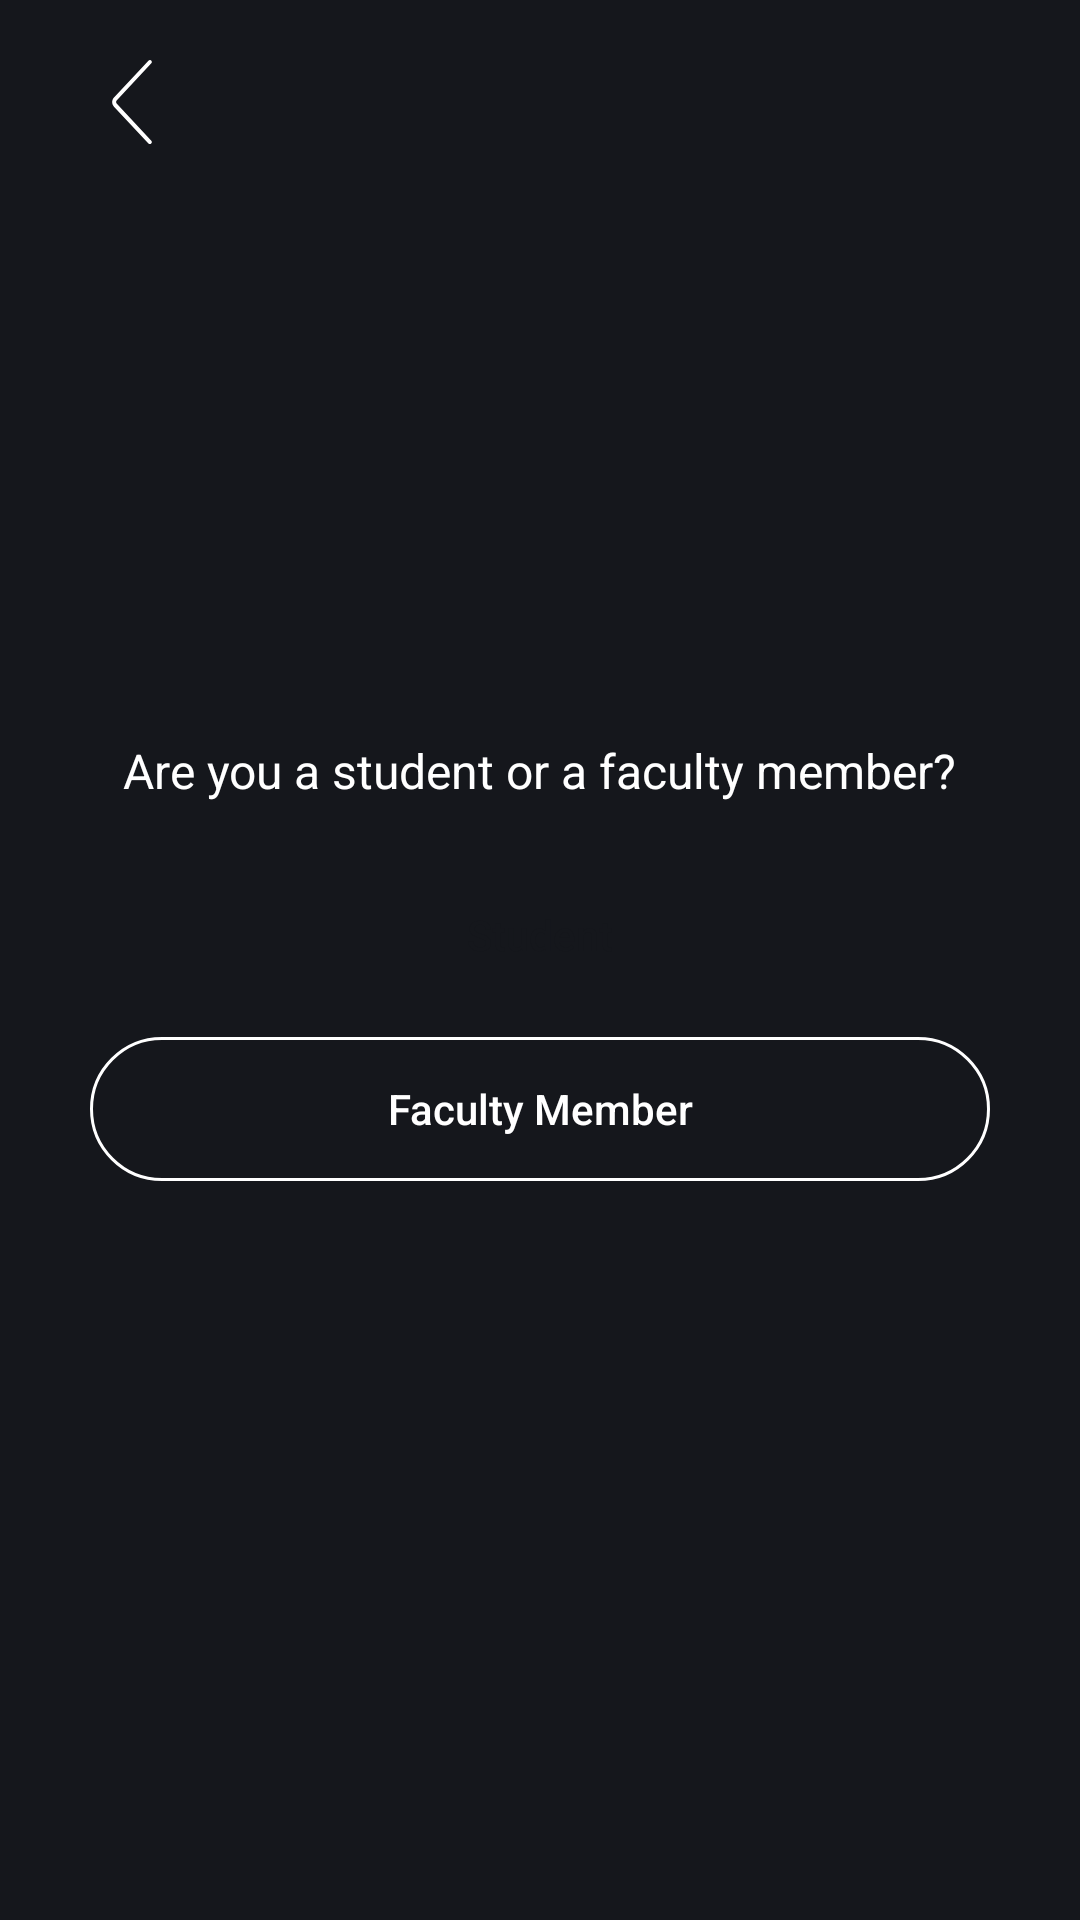

Screen size 1080 x 1920. Icon name, then its center in pixels as (x,y):
back: (132,102)
